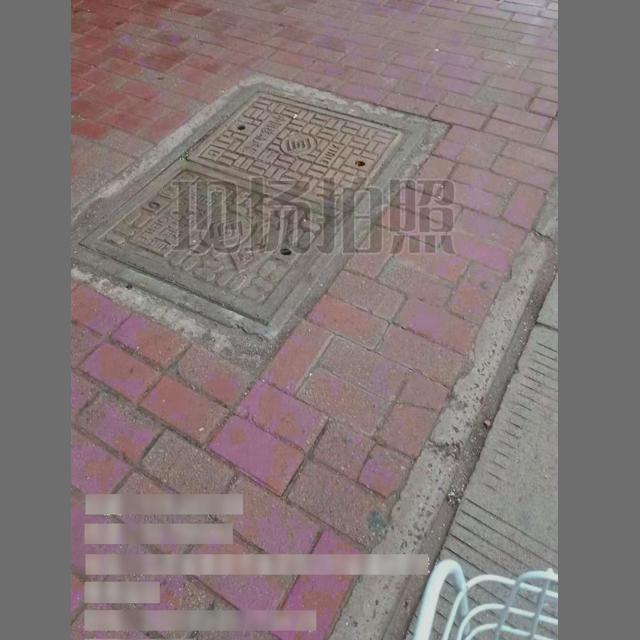good: (73, 81, 427, 342)
